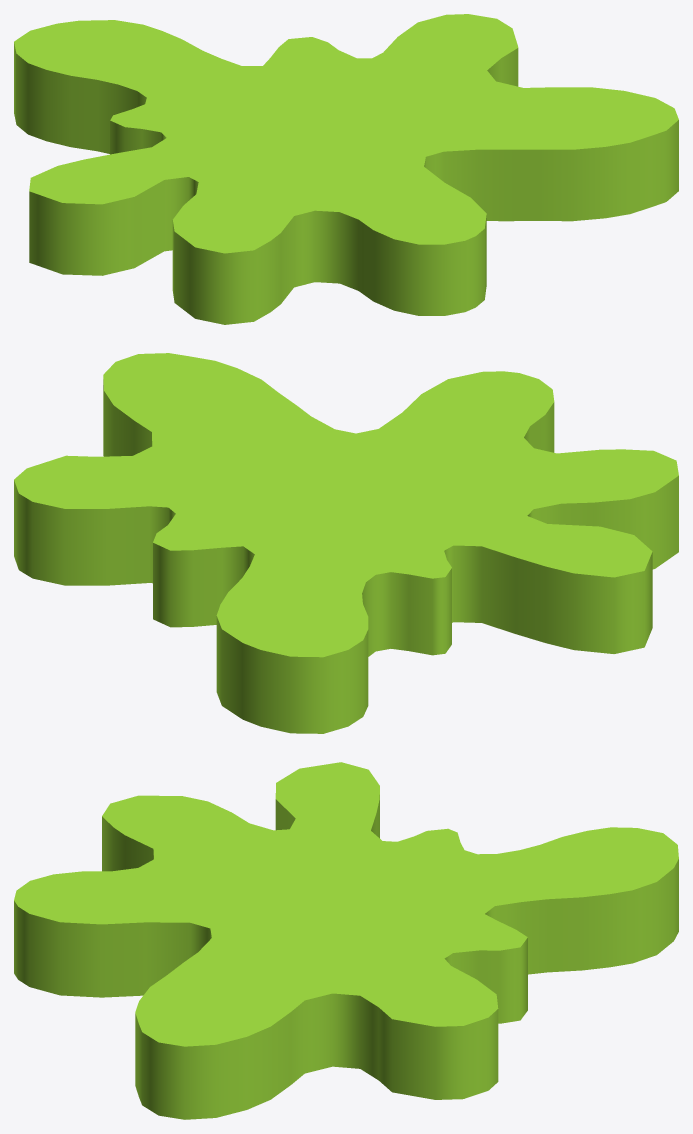
File: Morve.fbx
The picture shows the model from 3 angles, top to bottom: view 1: azimuth 30°, elevation 25°; view 2: azimuth 150°, elevation 25°; view 3: azimuth 270°, elevation 25°; orthographic projection. The views are drawn at different scales.
Visible parts, largest first — view 1: Morve; view 2: Morve; view 3: Morve.
Boxes of the visible parts, x1=… form: Morve: x1=14, y1=14, x2=678, y2=324; Morve: x1=14, y1=353, x2=678, y2=733; Morve: x1=14, y1=762, x2=678, y2=1119.
Size of the model in its own units: 417 by 50 by 412.
